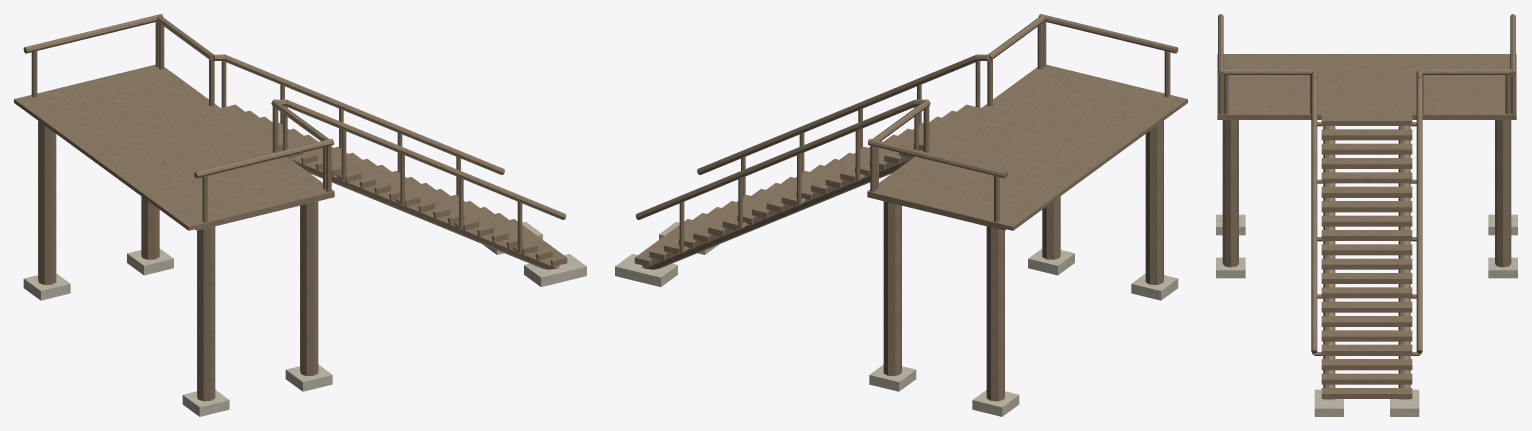
File: access-A-LOD1.glb
3 views of the same model, side by side, from view 1: azimuth 30°, elevation 25°; view 2: azimuth 150°, elevation 25°; view 3: azimuth 270°, elevation 25° (orthographic). The views are drawn at different scales.
Parts seen in each view (by area): view 1: access-A-static_timber, access-A-static_earth; view 2: access-A-static_timber, access-A-static_earth; view 3: access-A-static_timber, access-A-static_earth.
Boxes of the visible parts, x1,y1,x2,y2 form: access-A-static_timber: (14,14,567,401); access-A-static_earth: (23,221,586,416); access-A-static_timber: (634,14,1187,401); access-A-static_earth: (615,221,1178,416); access-A-static_timber: (1217,14,1516,399); access-A-static_earth: (1216,214,1517,416).
Size of the model in its own units: 9.92 by 5.27 by 6.65.
Materials: 2 (2 with a texture image).
